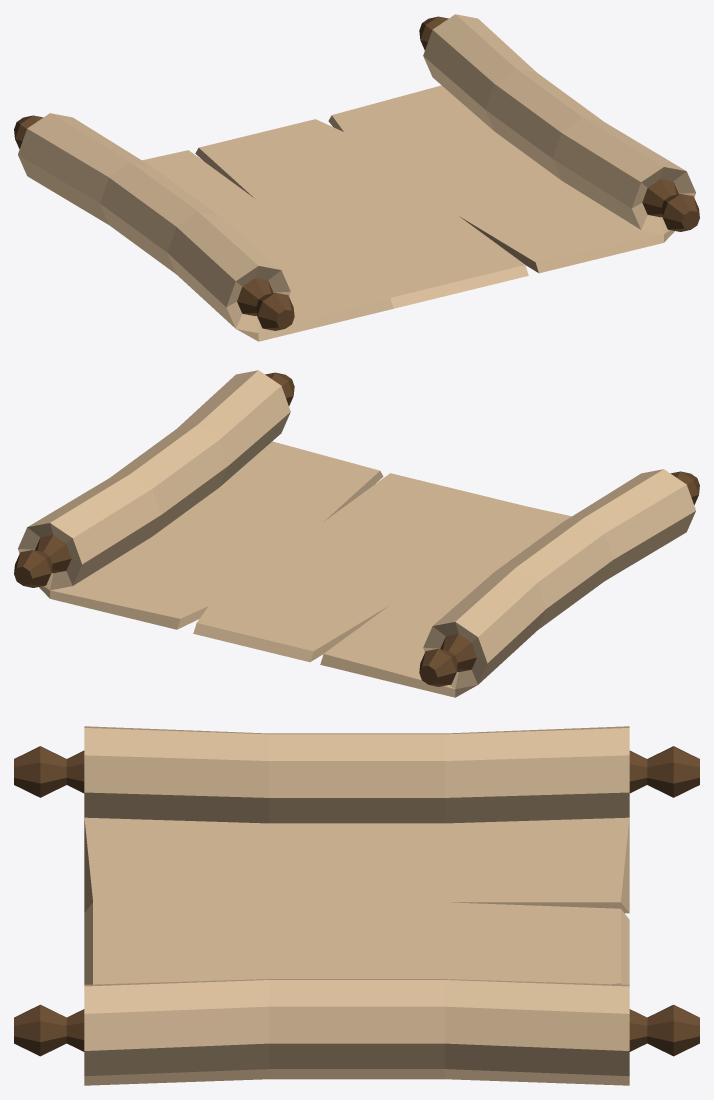
File: egypt-egypt-papyrus.glb
3 renders of one model, top to bottom at view 1: azimuth 30°, elevation 25°; view 2: azimuth 150°, elevation 25°; view 3: azimuth 270°, elevation 25°, orthographic. The views are drawn at different scales.
Visible parts, largest first — view 1: egypt-papyrus; view 2: egypt-papyrus; view 3: egypt-papyrus.
Part boxes in pixels (x1=…): egypt-papyrus: x1=14, y1=14, x2=699, y2=341; egypt-papyrus: x1=14, y1=370, x2=699, y2=697; egypt-papyrus: x1=14, y1=726, x2=699, y2=1085.
Size of the model in its own units: 0.7864 by 0.1215 by 0.7607.
